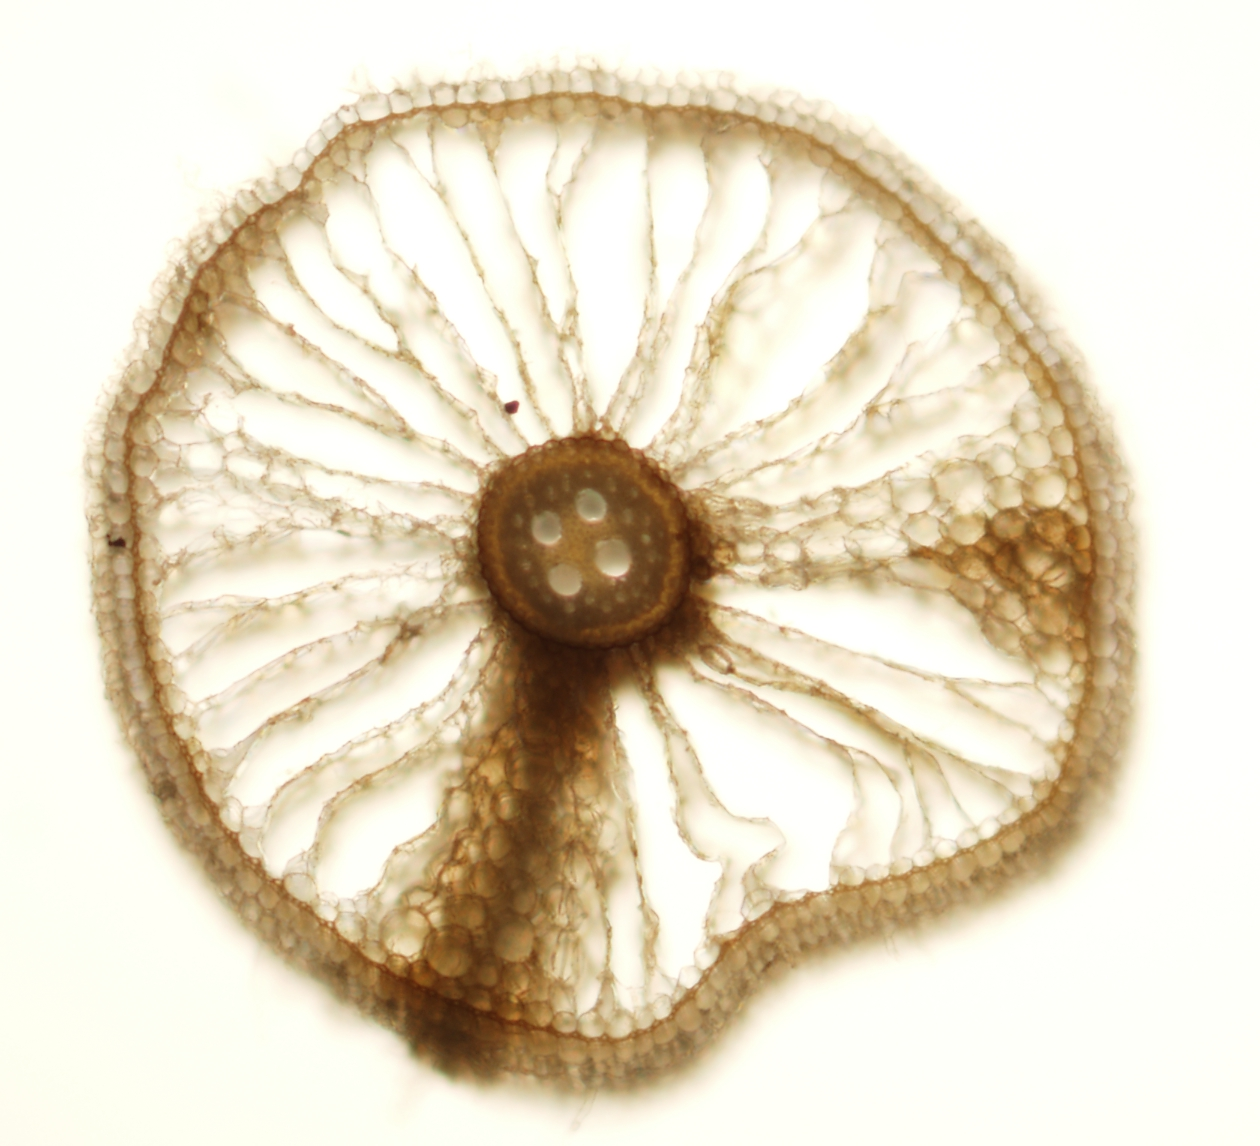lm: (593, 537, 632, 577), (545, 562, 582, 595), (573, 488, 607, 523), (531, 510, 563, 546)
